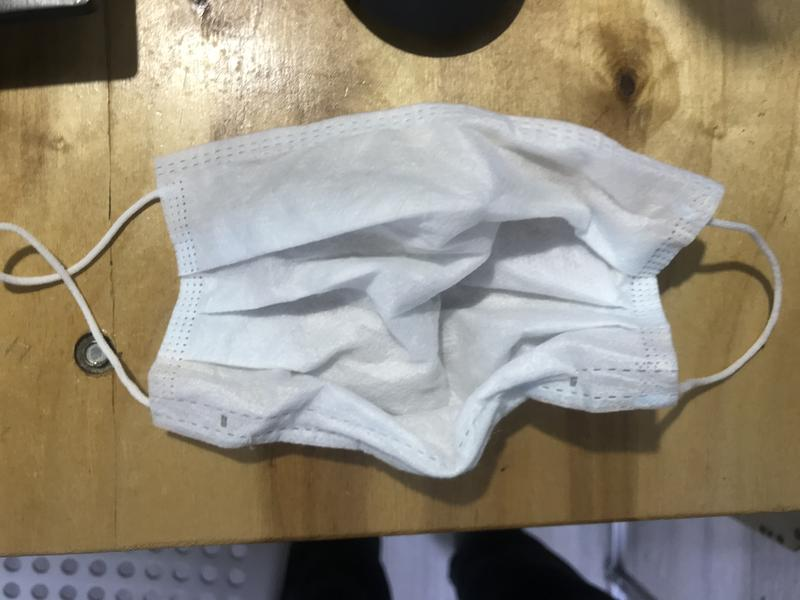medical_mask: (1, 104, 782, 477)
